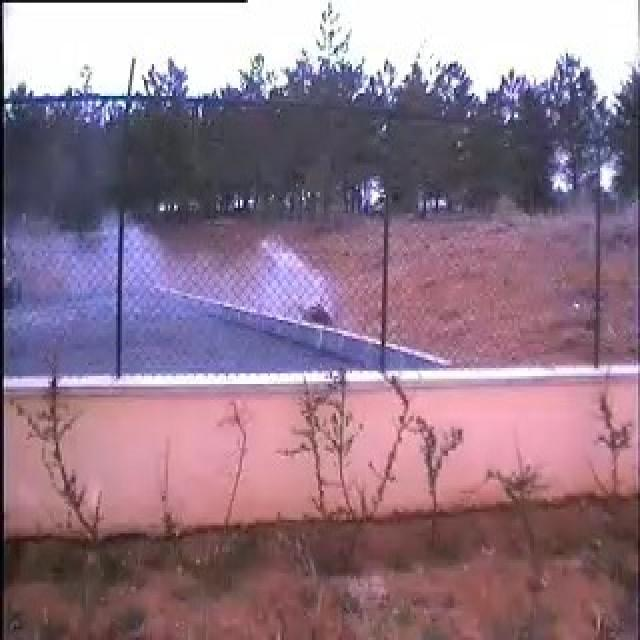smoke: (77, 200, 359, 364)
